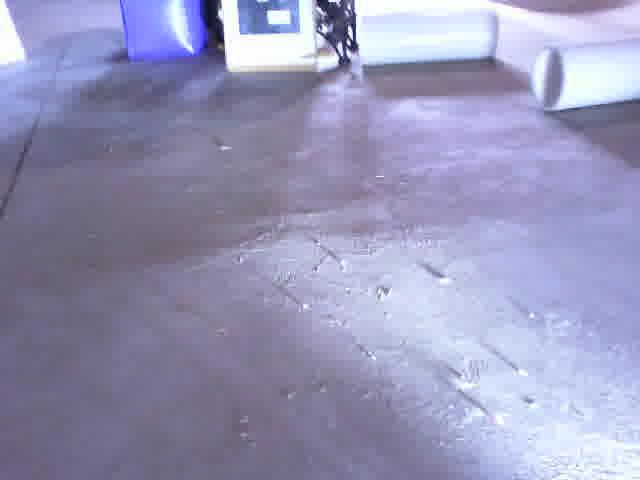coral: (529, 31, 640, 120), (355, 5, 502, 72)
